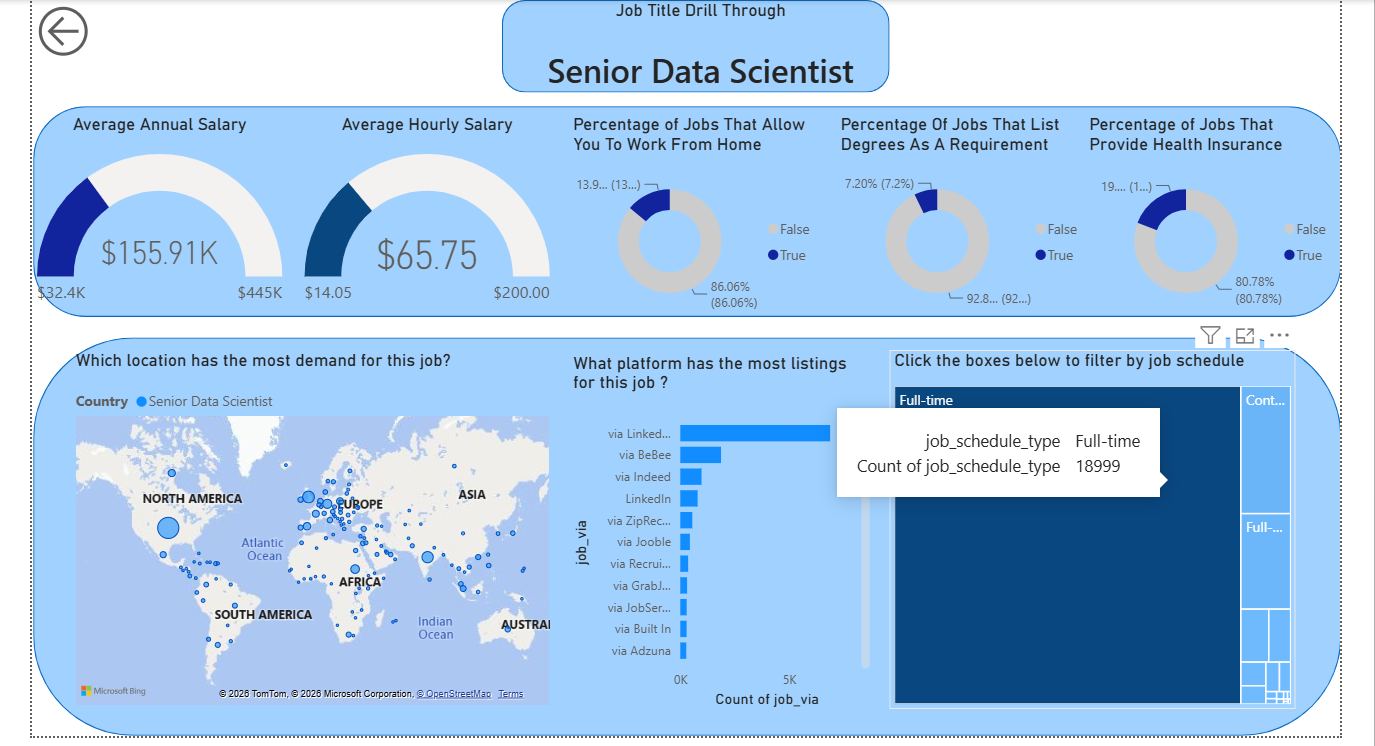

This screenshot's page, from the dashboard's own definition file:
{"tool":"powerbi","page":{"name":"Job Title Drill Through","canvas":[1280,720],"ordinal":1},"visuals":[{"type":"group","id":"g1","title":"Background","box":[1.2,0,1279.7,720.4],"z":0},{"type":"shape","box":[1.2,103.9,1279.7,206.1],"z":0,"group":"g1"},{"type":"cardVisual","title":"Job Title Drill Through","fields":{"Data":["Min(job_postings_flat.job_title_short)"]},"box":[387.6,0,533.3,103.9],"z":1000},{"type":"shape","box":[1.2,330.7,1279.7,389.6],"z":1000,"group":"g1"},{"type":"actionButton","box":[0,0,102.7,61.1],"z":2000},{"type":"shape","box":[459.5,0,379.1,90.5],"z":2000,"group":"g1"},{"type":"gauge","title":"Average Annual Salary","fields":{"MaxValue":["Max(job_postings_flat.salary_year_avg)"],"MinValue":["Min(job_postings_flat.salary_year_avg)"],"Y":["Avg(job_postings_flat.salary_year_avg)"]},"box":[0,110.9,250,200],"z":3000},{"type":"gauge","title":"Average Hourly Salary","fields":{"MaxValue":["Max(job_postings_flat.salary_hour_avg)"],"MinValue":["Min(job_postings_flat.salary_hour_avg)"],"Y":["Avg(job_postings_flat.salary_hour_avg)"]},"box":[262.1,110.9,250,200],"z":4000},{"type":"donutChart","title":"Percentage of Jobs That Allow You To Work From Home","fields":{"Category":["job_postings_flat.job_work_from_home"],"Y":["CountNonNull(job_postings_flat.job_work_from_home)"]},"box":[524.3,110.9,250,200],"z":5000},{"type":"donutChart","title":"Percentage Of Jobs That List Degrees As A Requirement","fields":{"Category":["job_postings_flat.job_no_degree_mention"],"Y":["CountNonNull(job_postings_flat.job_no_degree_mention)"]},"box":[786.4,110.9,250,200],"z":6000},{"type":"donutChart","title":"Percentage of Jobs That Provide Health Insurance","fields":{"Category":["job_postings_flat.job_health_insurance"],"Y":["CountNonNull(job_postings_flat.job_health_insurance)"]},"box":[1030,110.9,250,200],"z":7000},{"type":"map","title":"Which location has the most demand for this job?","fields":{"Category":["job_postings_flat.job_country"],"Series":["job_postings_flat.job_title_short"],"Size":["CountNonNull(job_postings_flat.job_title_short)"]},"box":[38.1,342.9,472.8,352.8],"z":8000},{"type":"barChart","title":"What platform has the most listings for this job ?","fields":{"Category":["job_postings_flat.job_via"],"Y":["CountNonNull(job_postings_flat.job_via)"]},"box":[524.7,344.6,300,352],"z":9000},{"type":"treemap","title":"Click the boxes below to filter by job schedule","fields":{"Group":["job_postings_flat.job_schedule_type"],"Values":["CountNonNull(job_postings_flat.job_schedule_type)"]},"box":[838.9,342.4,397.7,351.4],"z":10000}]}

Visuals, with their boxes on the page's 1280x720 design canvas (x1, y1, x2, y2). These are canvas units, not pixel positions in the 1375x746 screenshot, which may show the page scaled, cropped or inside an application window:
"Background" group: locate(1, 0, 1281, 720)
shape: locate(1, 104, 1281, 310)
"Job Title Drill Through" cardVisual: locate(388, 0, 921, 104)
shape: locate(1, 331, 1281, 720)
actionButton: locate(0, 0, 103, 61)
shape: locate(460, 0, 839, 90)
"Average Annual Salary" gauge: locate(0, 111, 250, 311)
"Average Hourly Salary" gauge: locate(262, 111, 512, 311)
"Percentage of Jobs That Allow You To Work From Home" donutChart: locate(524, 111, 774, 311)
"Percentage Of Jobs That List Degrees As A Requirement" donutChart: locate(786, 111, 1036, 311)
"Percentage of Jobs That Provide Health Insurance" donutChart: locate(1030, 111, 1280, 311)
"Which location has the most demand for this job?" map: locate(38, 343, 511, 696)
"What platform has the most listings for this job ?" barChart: locate(525, 345, 825, 697)
"Click the boxes below to filter by job schedule" treemap: locate(839, 342, 1237, 694)
